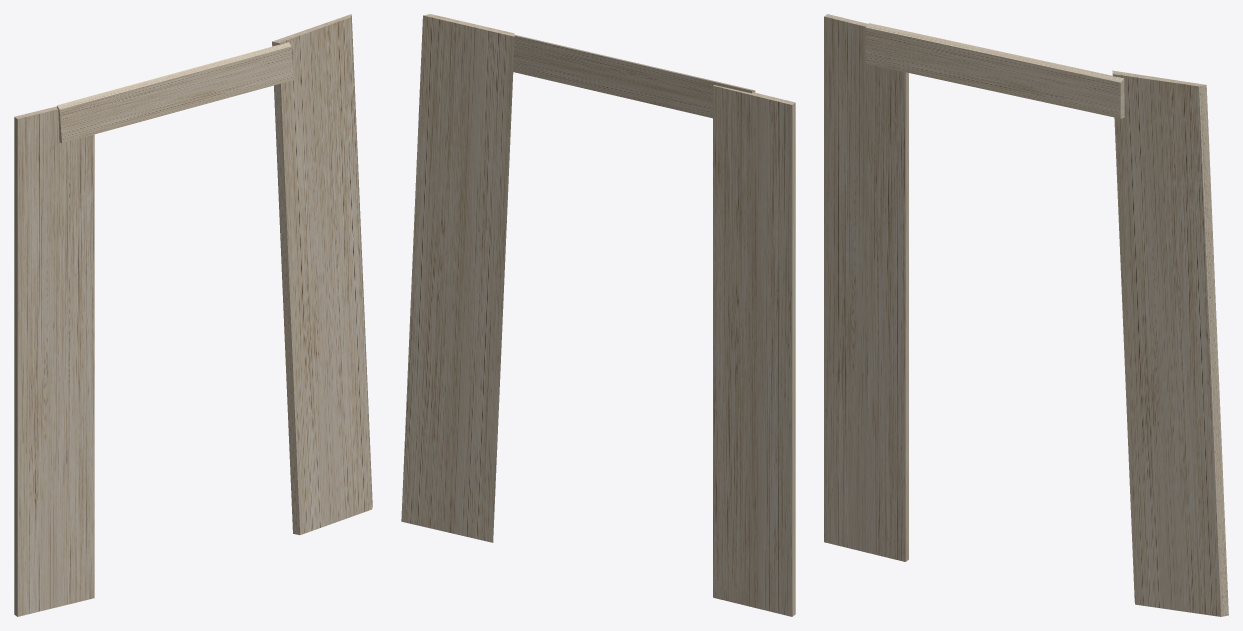
Rendered from MarcoPuerta.obj.
The picture shows the model from 3 angles, left to right: view 1: azimuth 30°, elevation 25°; view 2: azimuth 150°, elevation 25°; view 3: azimuth 330°, elevation 25°; orthographic projection. The views are drawn at different scales.
Visible parts, largest first — view 1: pasted__pasted__pCube3; view 2: pasted__pasted__pCube3; view 3: pasted__pasted__pCube3.
Boxes of the visible parts, box(x1,y1,x2,y2) form: pasted__pasted__pCube3: box(14, 14, 372, 616); pasted__pasted__pCube3: box(401, 14, 795, 616); pasted__pasted__pCube3: box(824, 14, 1228, 616).
Bounding box in the file's own units: 5.86 × 7.7 × 0.4593.
2 materials, 2 textured.
